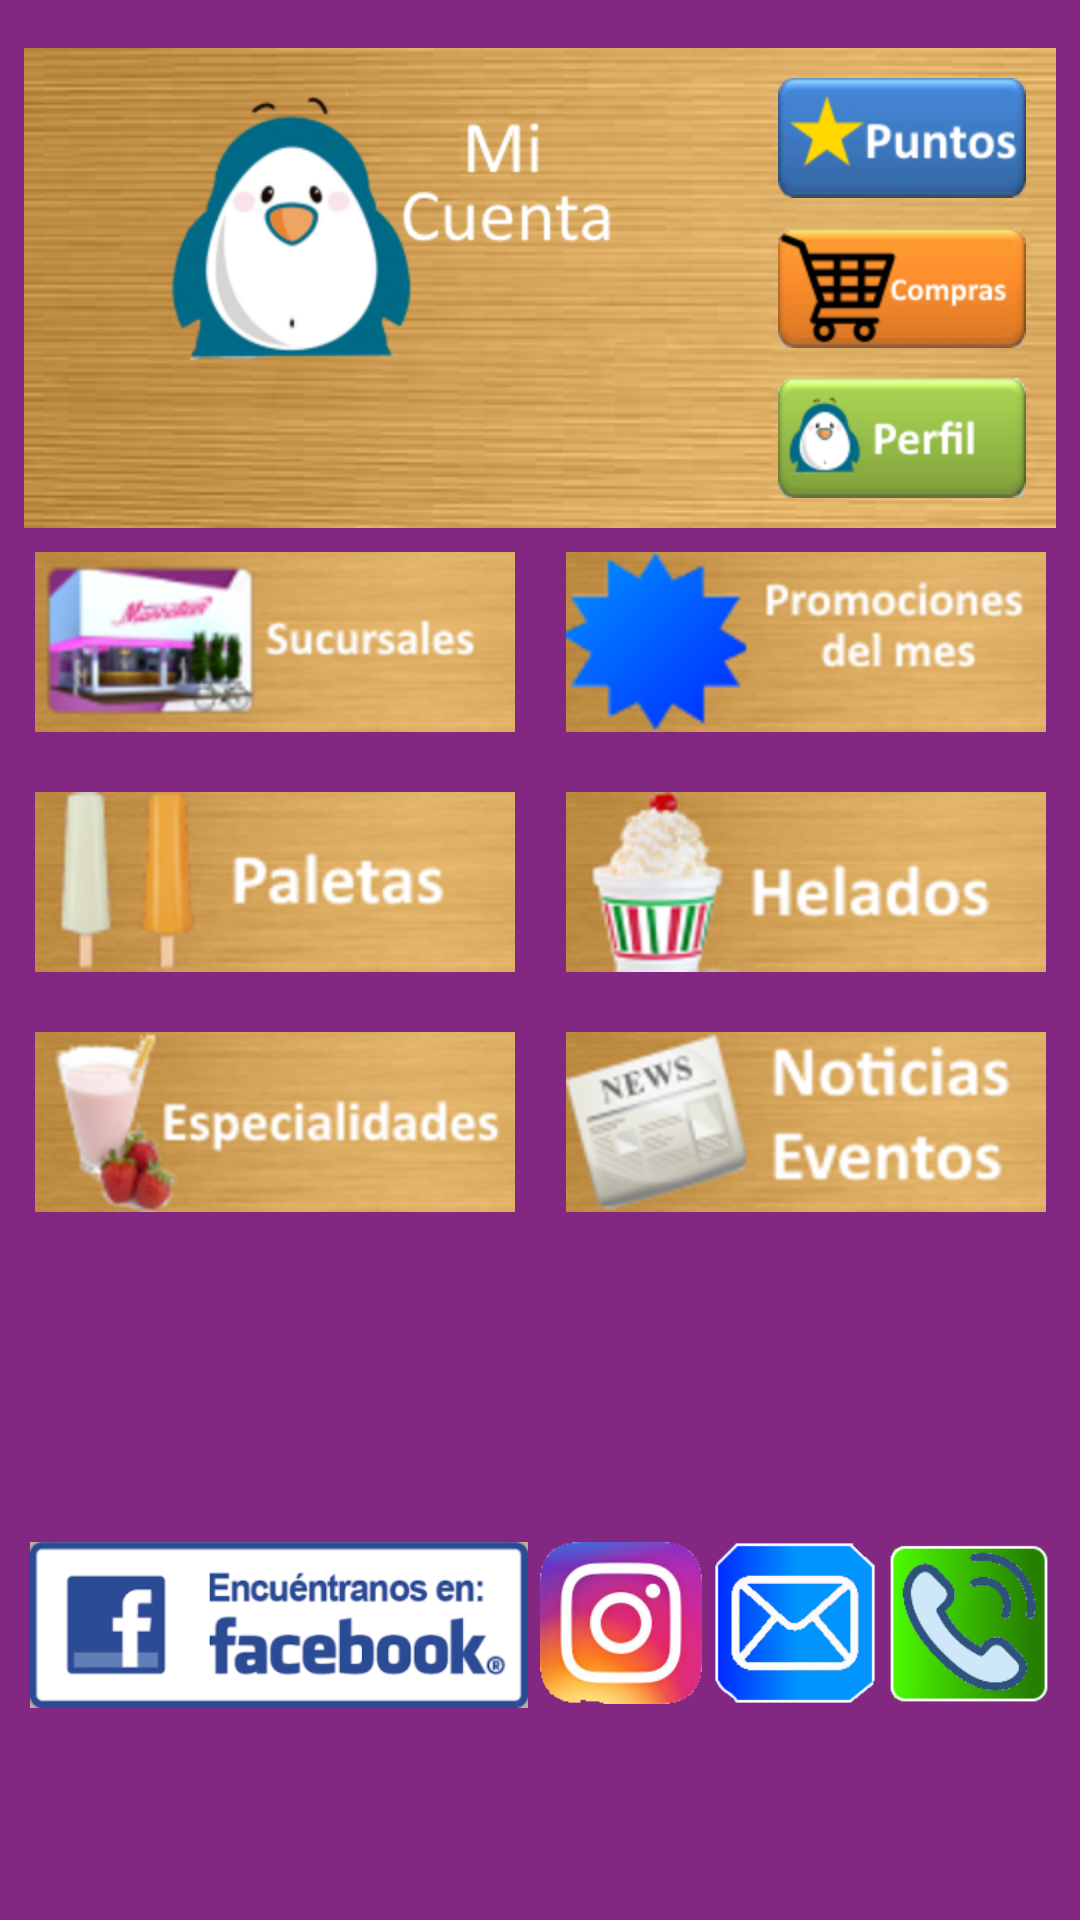

Screen size 1080*1920. Icon name, then its box in pixels as BBox(x1, y1, x2, y2):
mail: BBox(715, 1543, 875, 1703)
phone: BBox(890, 1546, 1048, 1702)
